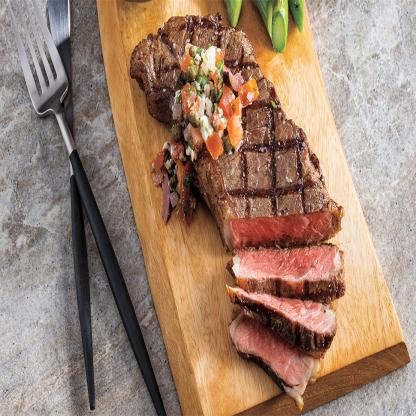Carne: (127, 20, 339, 226), (233, 281, 347, 359), (233, 232, 349, 297)
